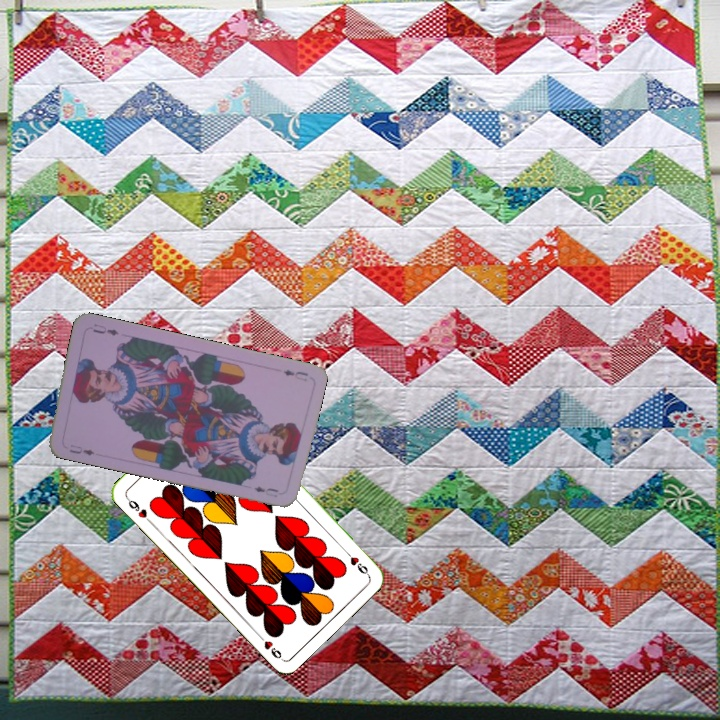EU: (279, 365, 310, 384), (65, 440, 97, 458)
H9: (339, 545, 371, 578), (122, 493, 154, 525)
